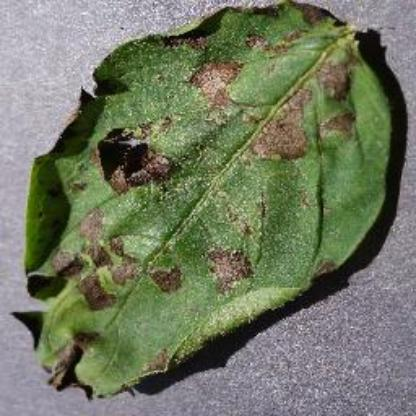Early-Blight: (22, 13, 398, 401)
